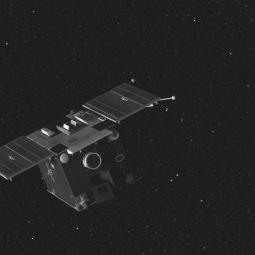proba_2: (0, 81, 159, 213)
